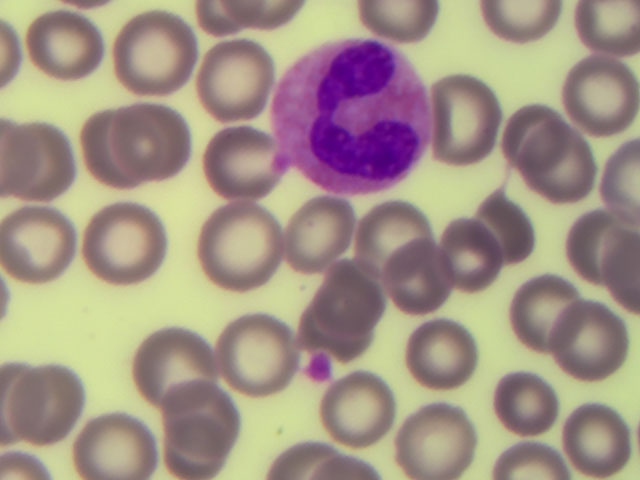Platelets: (309, 354, 332, 378)
RBC: (116, 11, 197, 97), (23, 4, 104, 90), (116, 100, 197, 186), (66, 108, 147, 194), (1, 119, 82, 205), (83, 199, 164, 285), (200, 205, 281, 291), (199, 127, 280, 213), (198, 37, 279, 123), (274, 188, 355, 274), (351, 191, 432, 277), (388, 237, 469, 323), (309, 260, 390, 346), (216, 315, 297, 401), (139, 321, 220, 407), (159, 376, 240, 462), (78, 394, 159, 480), (4, 365, 85, 451), (324, 375, 405, 461), (397, 316, 478, 402), (395, 394, 476, 480), (486, 363, 567, 449), (555, 300, 636, 386), (500, 271, 581, 357), (474, 185, 555, 271), (437, 214, 518, 300), (520, 136, 601, 222), (496, 96, 577, 182), (426, 77, 507, 163), (554, 51, 635, 137), (559, 204, 640, 290), (1, 204, 81, 290), (481, 1, 569, 48), (354, 1, 442, 48), (578, 1, 640, 55)
WBC: (274, 38, 435, 198)
